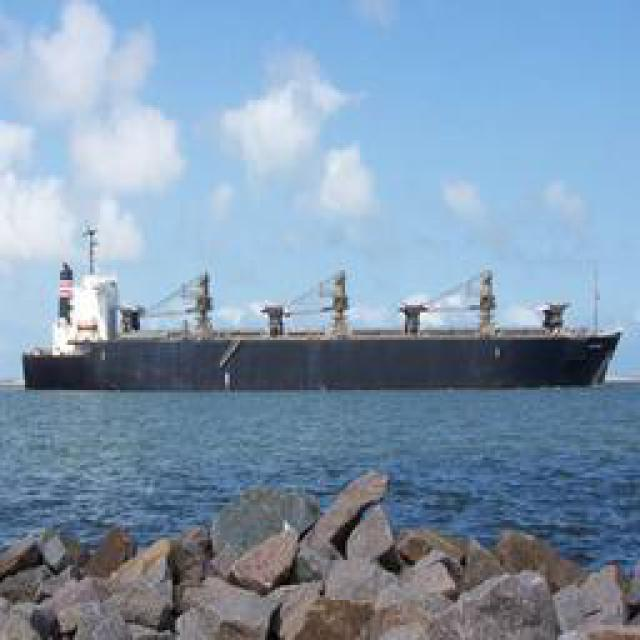Ship: (31, 260, 626, 398)
